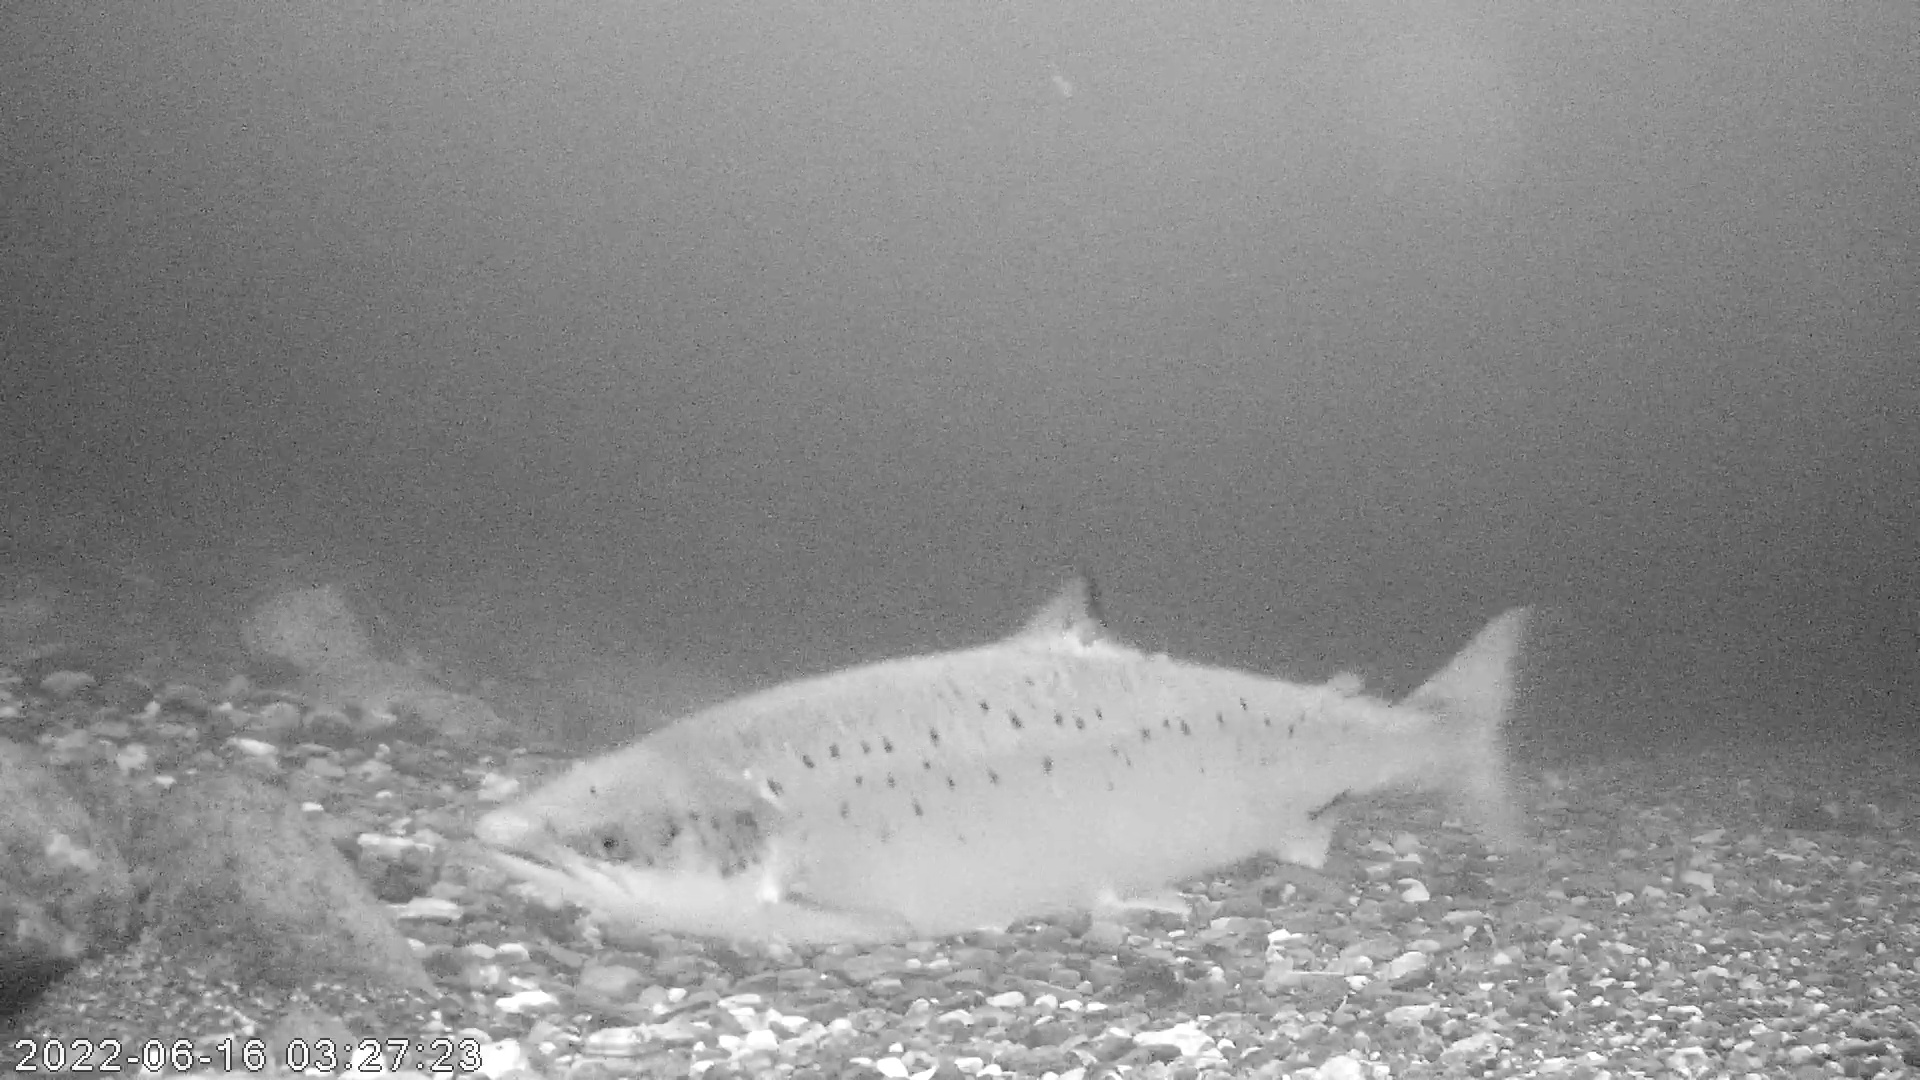salmon: (473, 566, 1535, 951)
